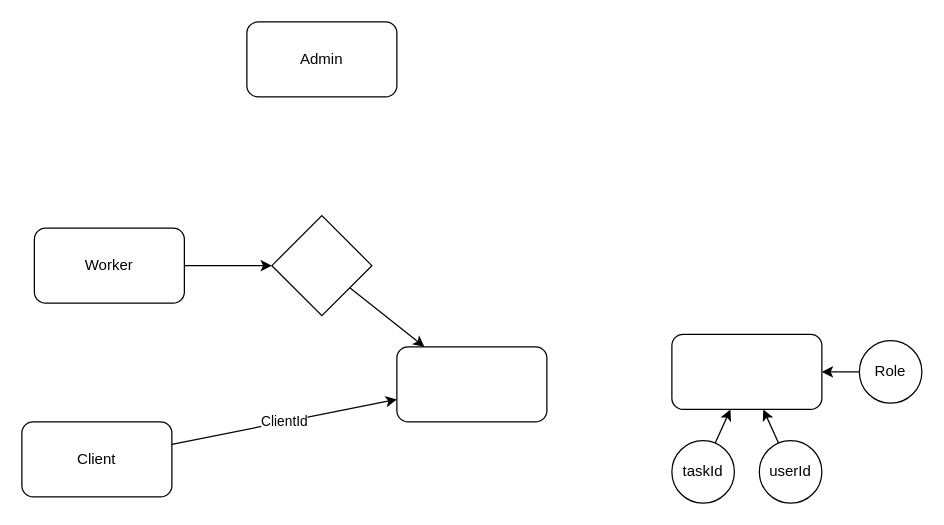
This 944x525 diagram has some shape labels left out. The shapes that lost their labels are listed below. From the top down, each one's centre as x and y in pixels, then its label:
At point (321, 265): "Worker_Task".
At point (471, 384): "Task".
At point (746, 371): "Message".
